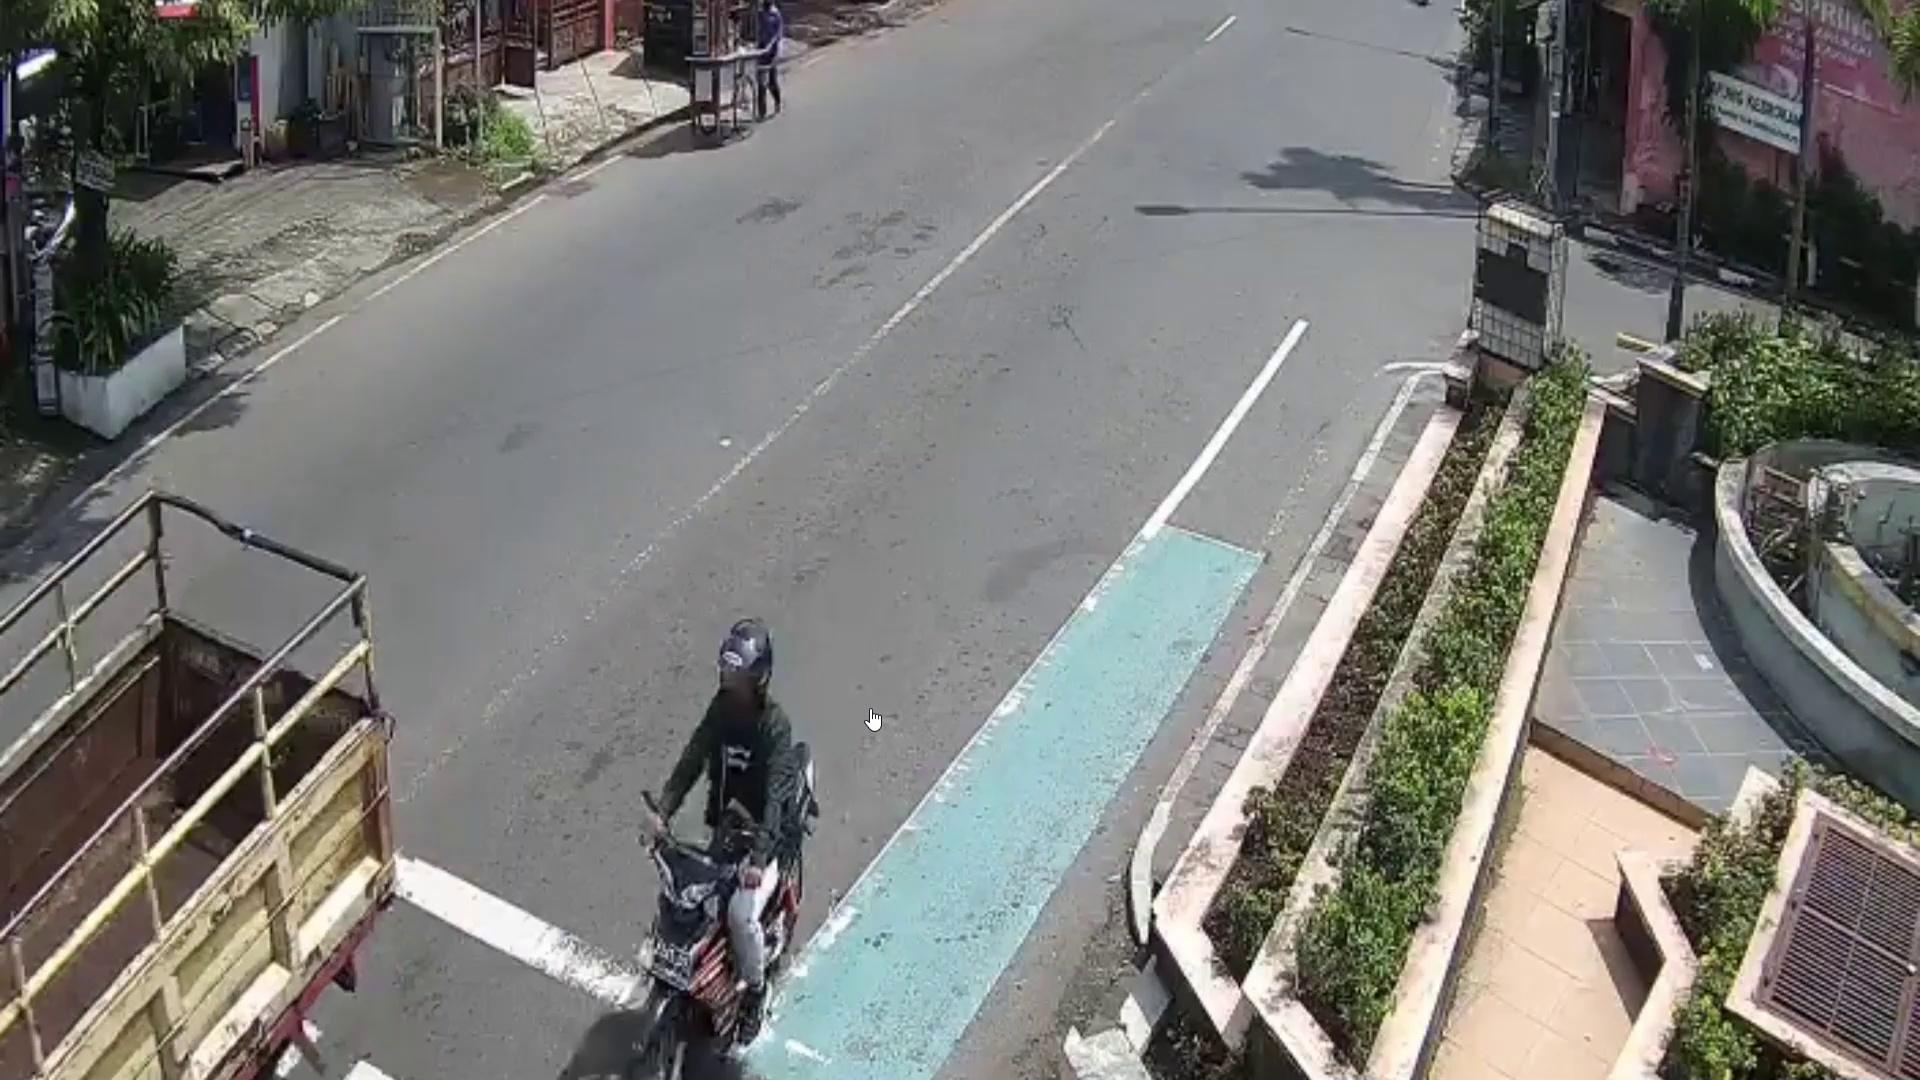motorbike: (630, 741, 812, 1080)
